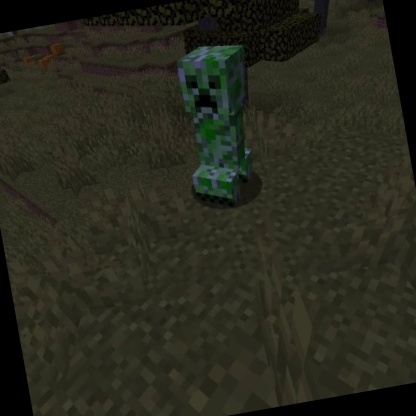creeper: (165, 35, 277, 218)
